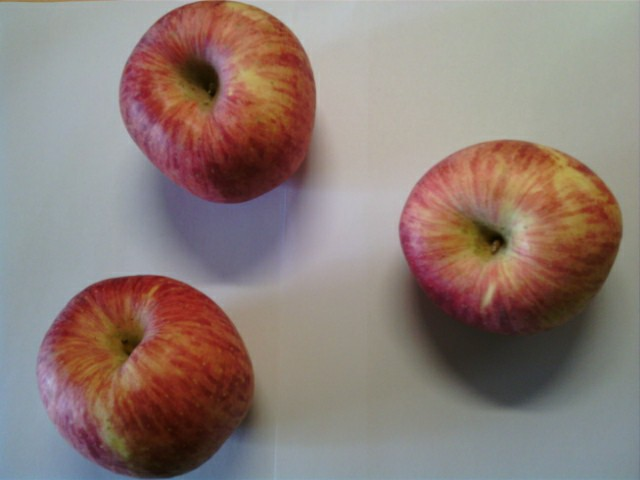normal_apple: (400, 141, 626, 340), (39, 274, 255, 480), (119, 1, 317, 203)
